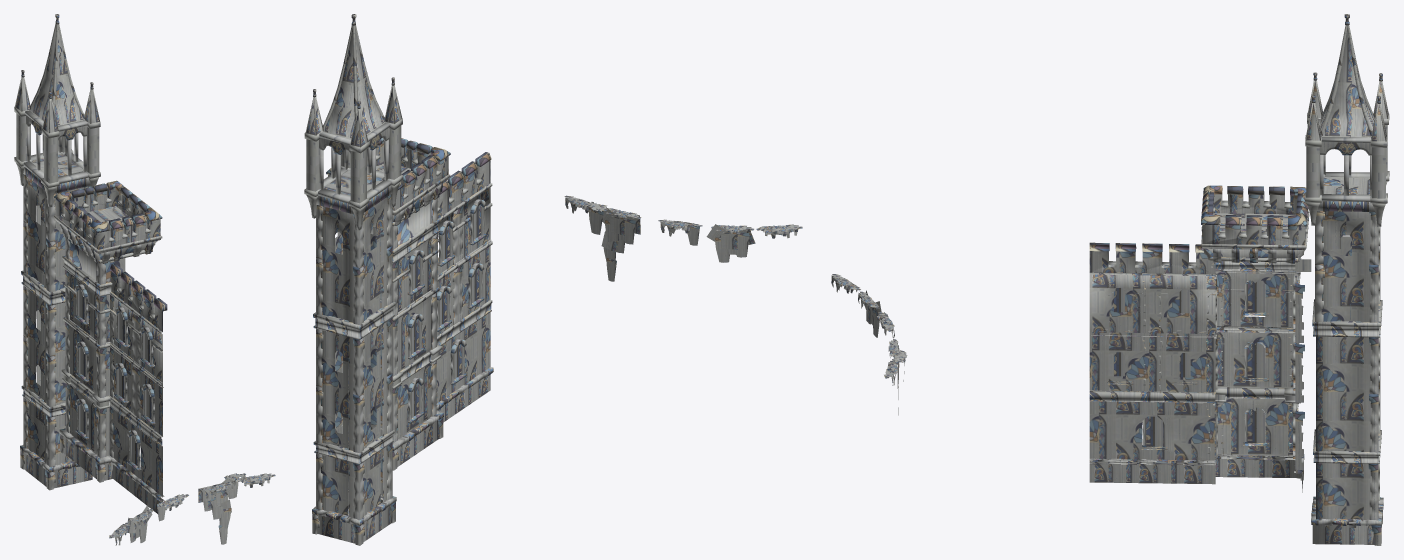
3 views of the same model, side by side, from view 1: azimuth 30°, elevation 25°; view 2: azimuth 150°, elevation 25°; view 3: azimuth 270°, elevation 25° (orthographic). The views are drawn at different scales.
Visible parts, largest first — view 1: nt:*ObjectIndoorScene_Md_KnightOutDoor_MD_CityArea_MdBu_e553; view 2: nt:*ObjectIndoorScene_Md_KnightOutDoor_MD_CityArea_MdBu_e553; view 3: nt:*ObjectIndoorScene_Md_KnightOutDoor_MD_CityArea_MdBu_e553.
Boxes of the visible parts, x1,y1,x2,y2 form: nt:*ObjectIndoorScene_Md_KnightOutDoor_MD_CityArea_MdBu_e553: [14, 14, 275, 545]; nt:*ObjectIndoorScene_Md_KnightOutDoor_MD_CityArea_MdBu_e553: [304, 14, 802, 545]; nt:*ObjectIndoorScene_Md_KnightOutDoor_MD_CityArea_MdBu_e553: [831, 14, 1389, 545].
Bounding box in the file's own units: 99.48 × 200 × 195.
